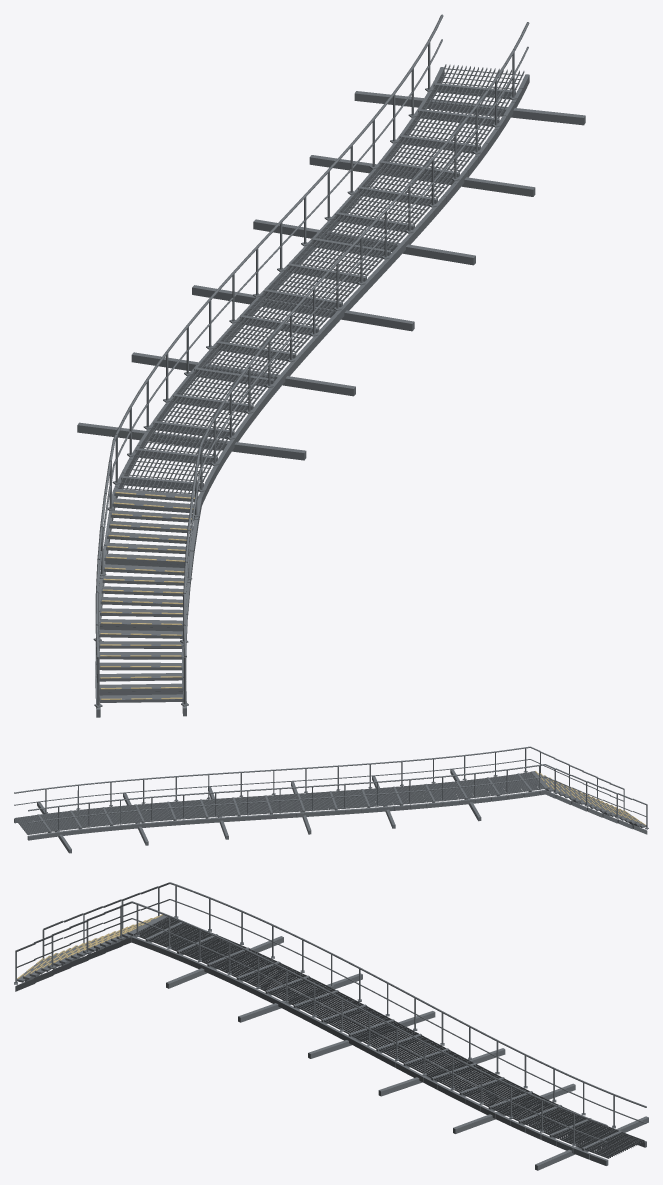
Rendered from BN_T01_UpperWalk_LOD1.fbx.
The picture shows the model from 3 angles, top to bottom: view 1: azimuth 30°, elevation 25°; view 2: azimuth 150°, elevation 25°; view 3: azimuth 270°, elevation 25°; orthographic projection. The views are drawn at different scales.
Parts seen in each view (by area): view 1: BN_T01_UpperWalk_LOD1; view 2: BN_T01_UpperWalk_LOD1; view 3: BN_T01_UpperWalk_LOD1.
Part boxes in pixels (left/top/right/bottom): BN_T01_UpperWalk_LOD1: left=77, top=14, right=585, bottom=717; BN_T01_UpperWalk_LOD1: left=14, top=746, right=648, bottom=853; BN_T01_UpperWalk_LOD1: left=14, top=882, right=648, bottom=1170.
Size of the model in its own units: 1771 by 362 by 1687.
